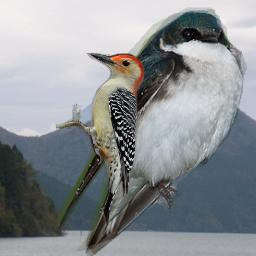Swallow: (57, 2, 249, 256)
Woodpecker: (56, 53, 144, 225)
